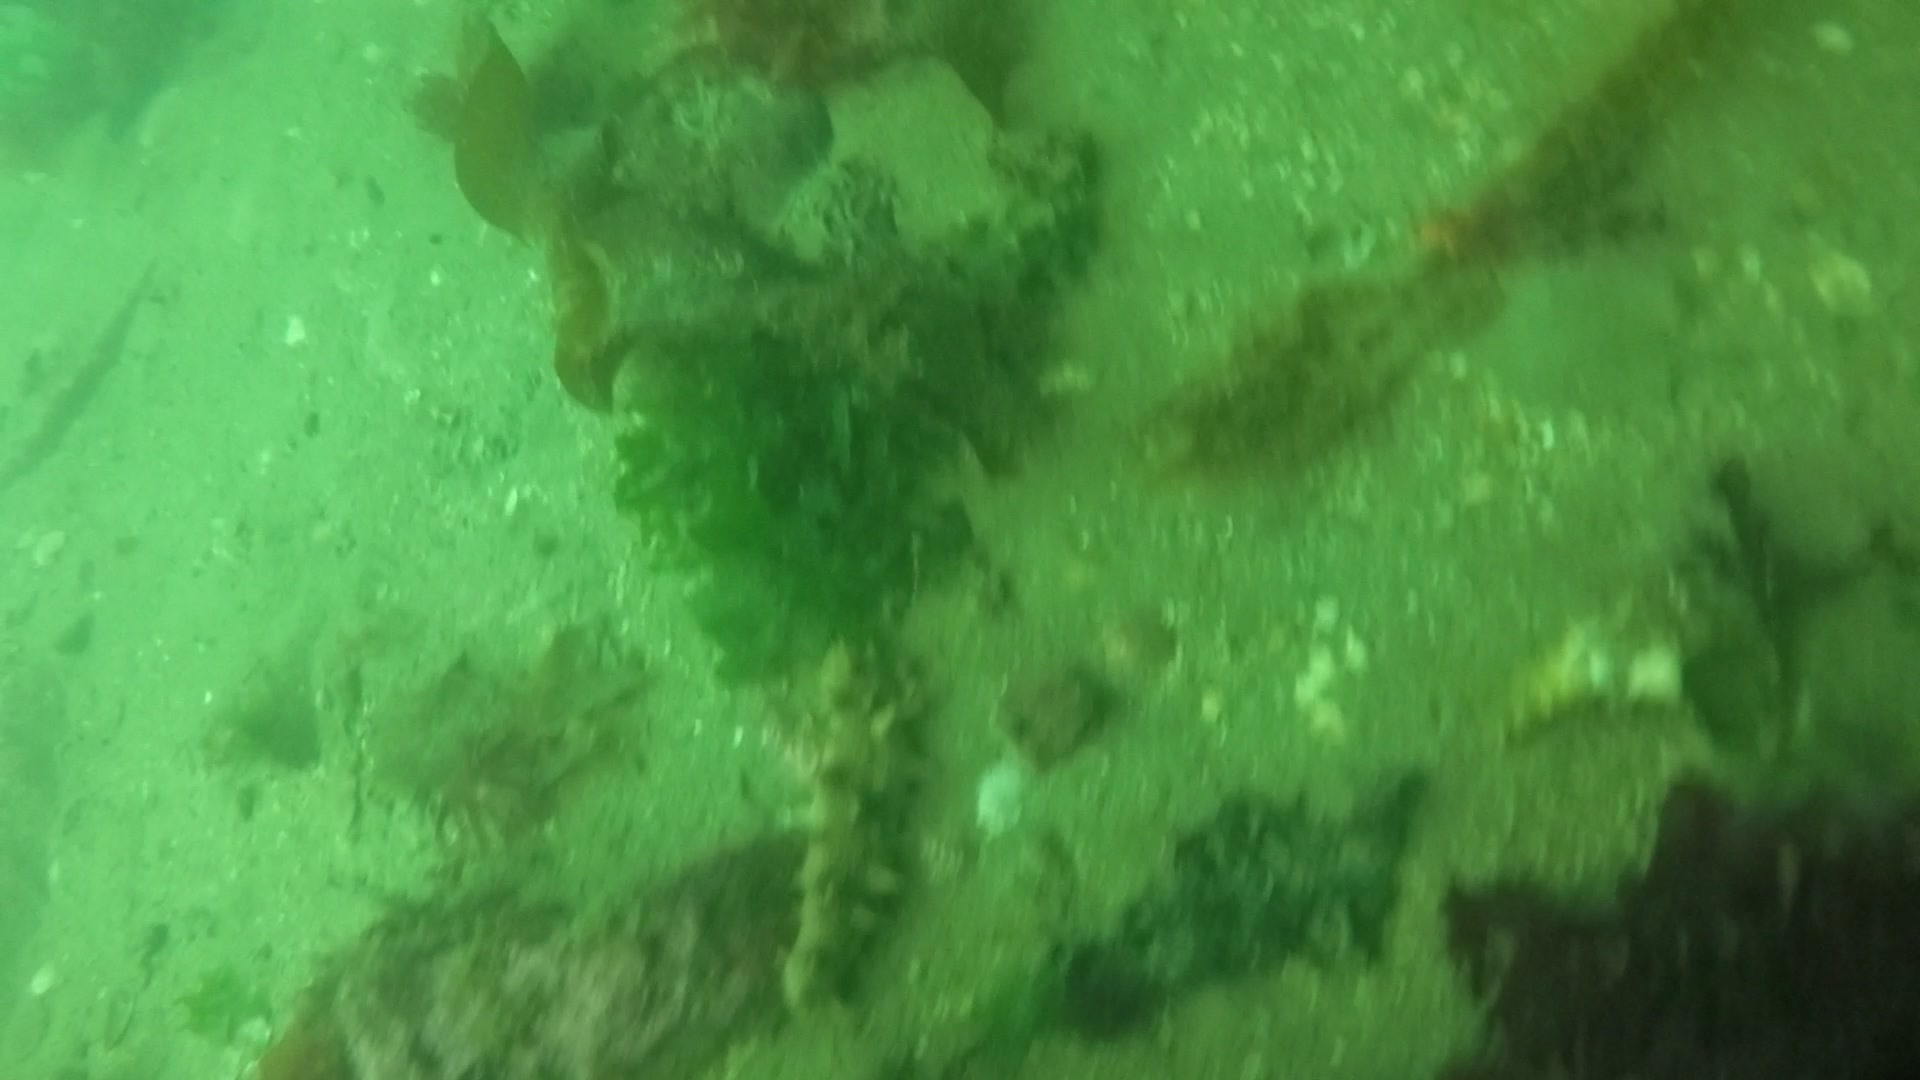holothurian: (753, 636, 911, 1007)
